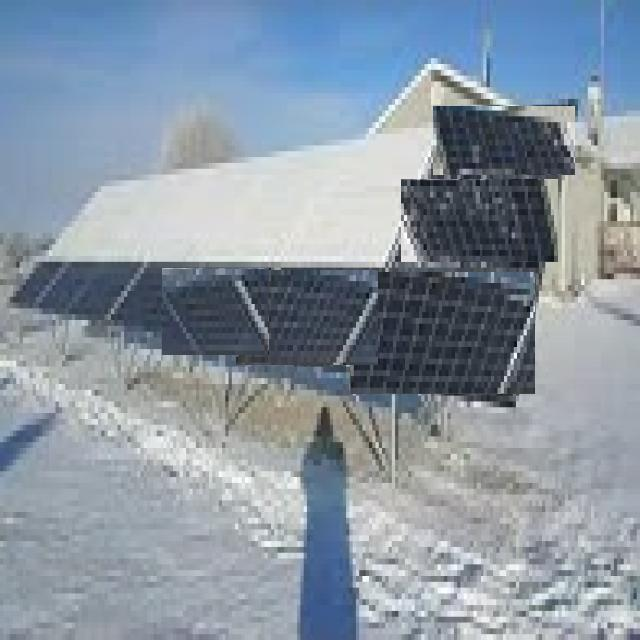Snow: (40, 131, 437, 255)
